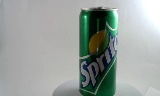sprite: (72, 6, 111, 95)
